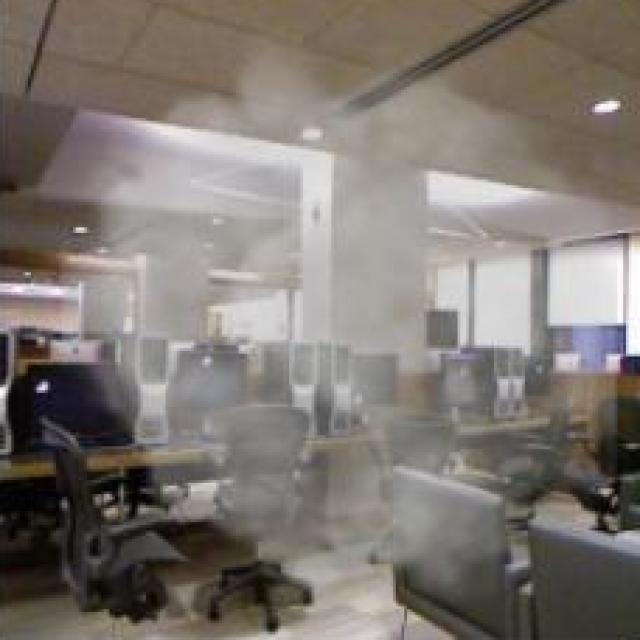fire: (68, 41, 618, 594)
